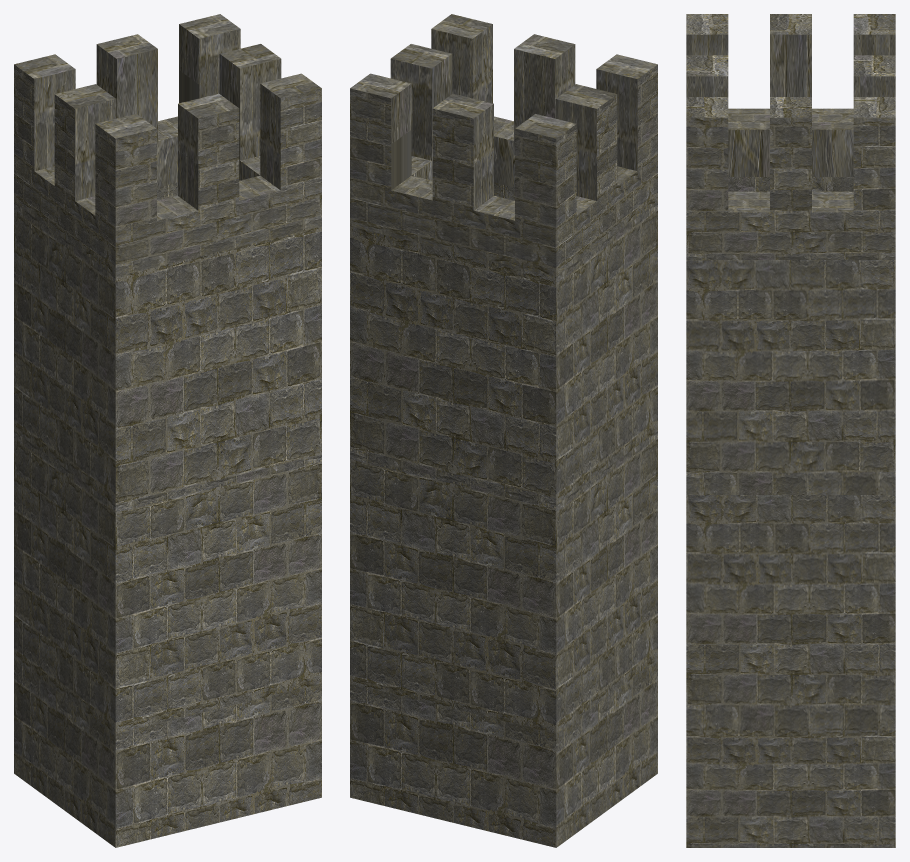
The model's file is WALL1.fbx.
3 views of the same model, side by side, from view 1: azimuth 30°, elevation 25°; view 2: azimuth 150°, elevation 25°; view 3: azimuth 270°, elevation 25° (orthographic). The views are drawn at different scales.
Visible parts, largest first — view 1: walll for edge; view 2: walll for edge; view 3: walll for edge.
Boxes of the visible parts, x1,y1,x2,y2 form: walll for edge: (14,14,321,847); walll for edge: (350,14,657,847); walll for edge: (686,14,895,847).
Bounding box in the file's own units: 469 × 1540 × 400.
1 material, 1 textured.
